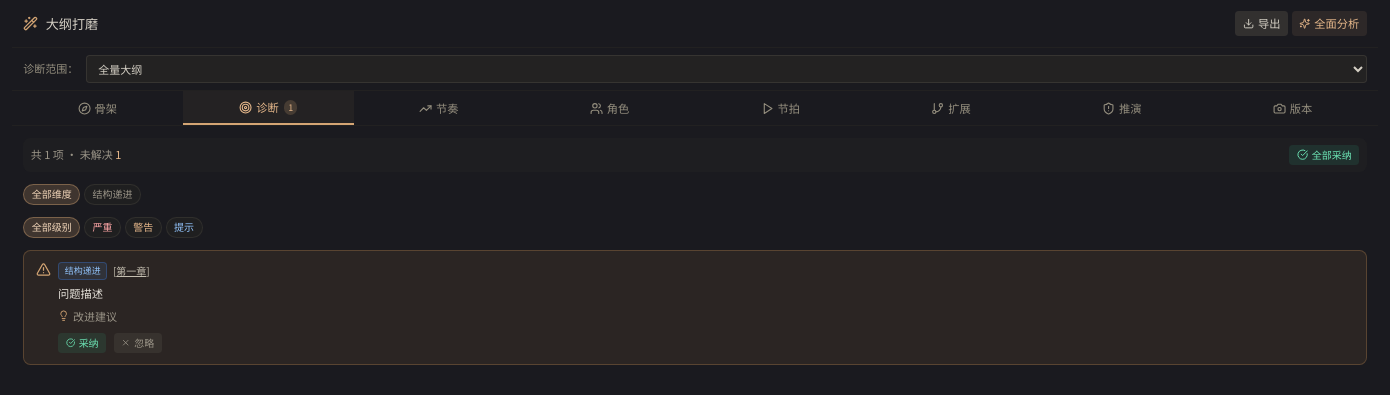
OutlinePolishPanel › 角色弧光无缺口时展开显示"未检测到弧光缺口"
This screenshot has width=1390, height=395.
Click the button "角色" at [610, 108], box [524,91,695,125]
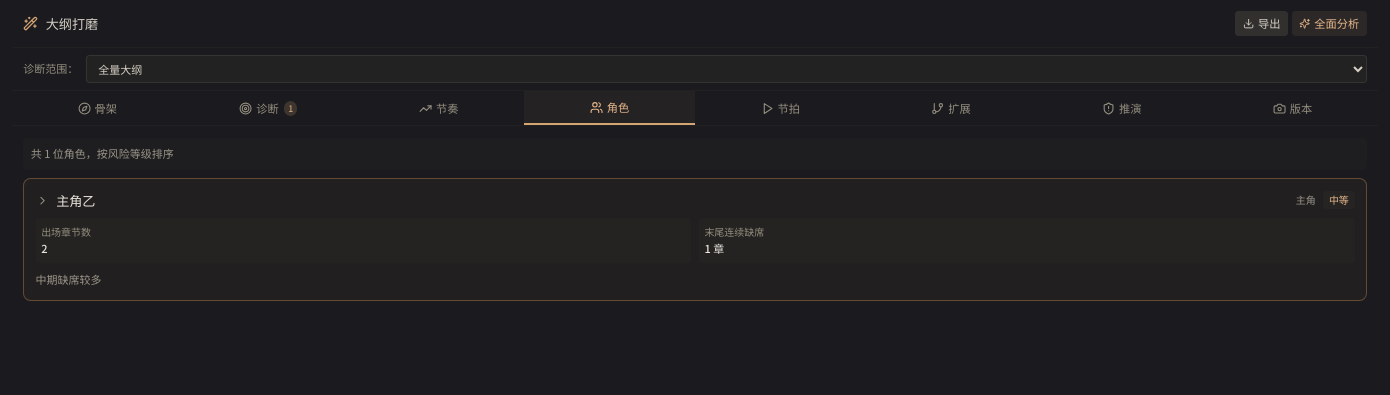
Click the text "主角乙" at [76, 200], box [56,191,95,210]
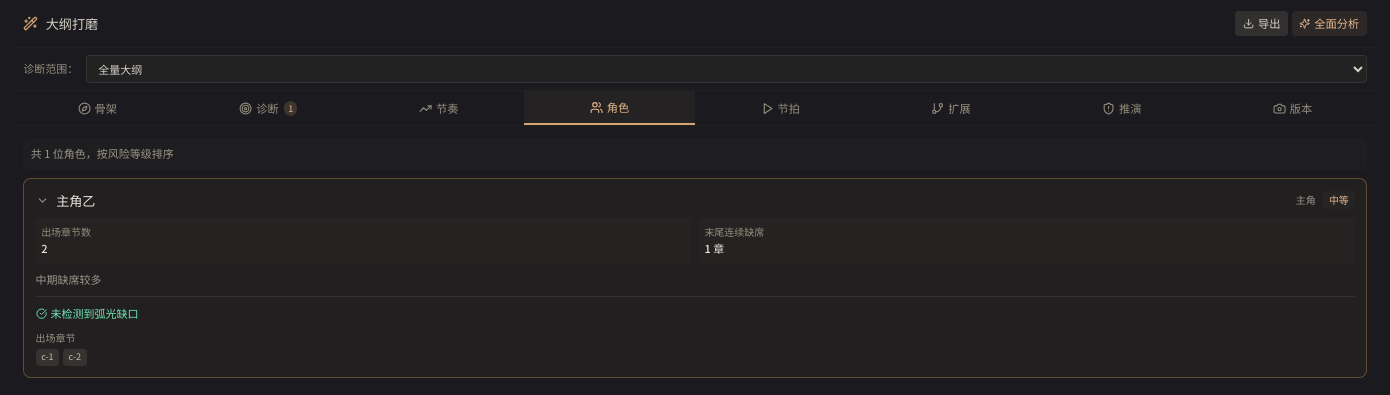
expect the text "未检测到弧光缺口" is shown: met, box [36,305,138,321]
